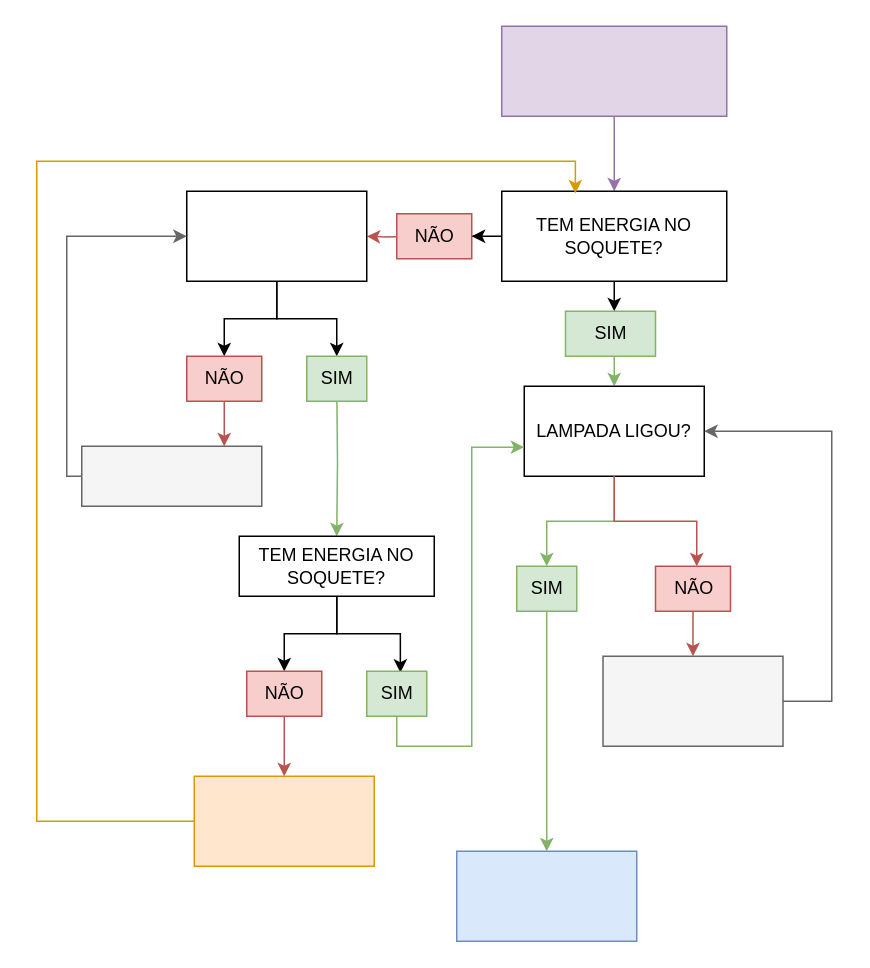
Some shapes in this 870 by 968 pixel diagram are drawn without their labels. The shapes that lost their labels are listed below. From the top down, each one's centre as x and y in pixels, then its label:
the point at 613,70: LAMPADA NÃO ACENDE
the point at 276,235: INTERRUPTOR ESTÁ LIGADO?
the point at 171,475: LIGUE
the point at 692,700: COMPRE UMA NOVA
the point at 283,820: VERIFICAR CABOS, INTERRUPTOR E SOQUETE
the point at 546,895: TUDO RESOLVIDO
